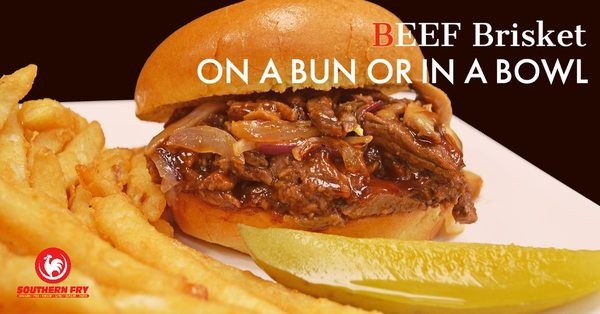soup: (136, 2, 482, 255), (139, 82, 482, 252)
